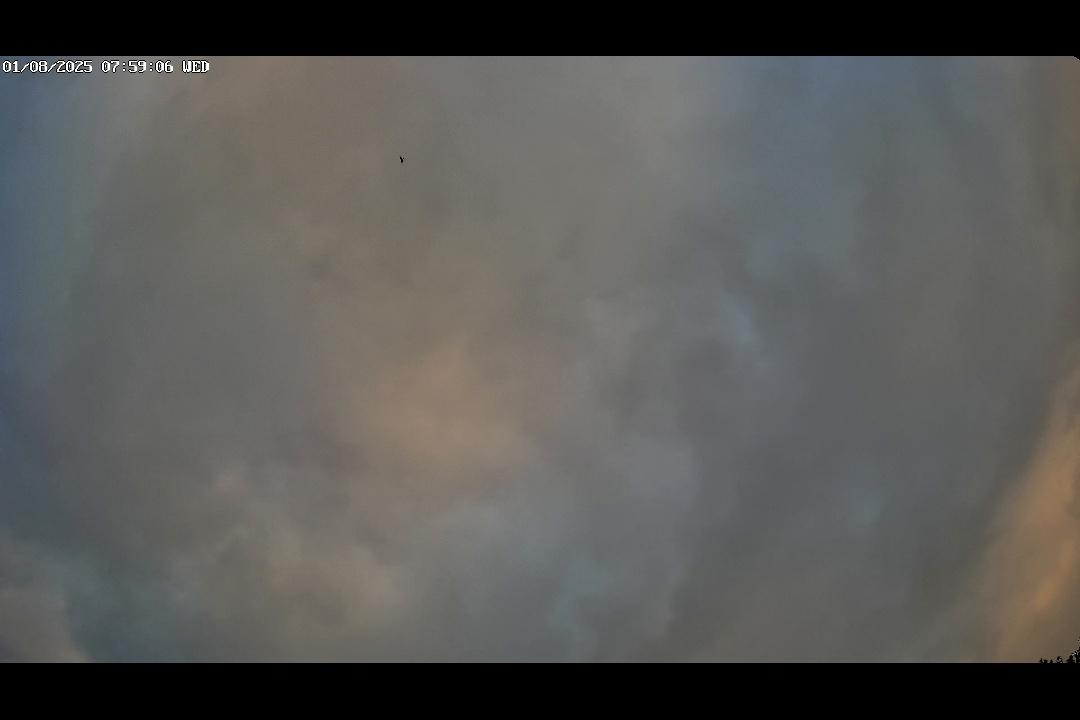WildLife: (394, 152, 408, 168)
